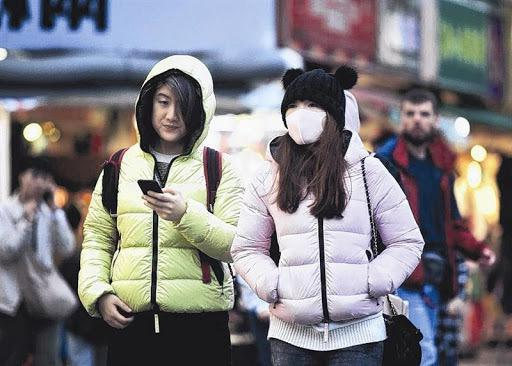with_mask: (286, 100, 327, 144)
without_mask: (152, 90, 187, 141), (403, 105, 433, 142), (24, 170, 49, 199)
